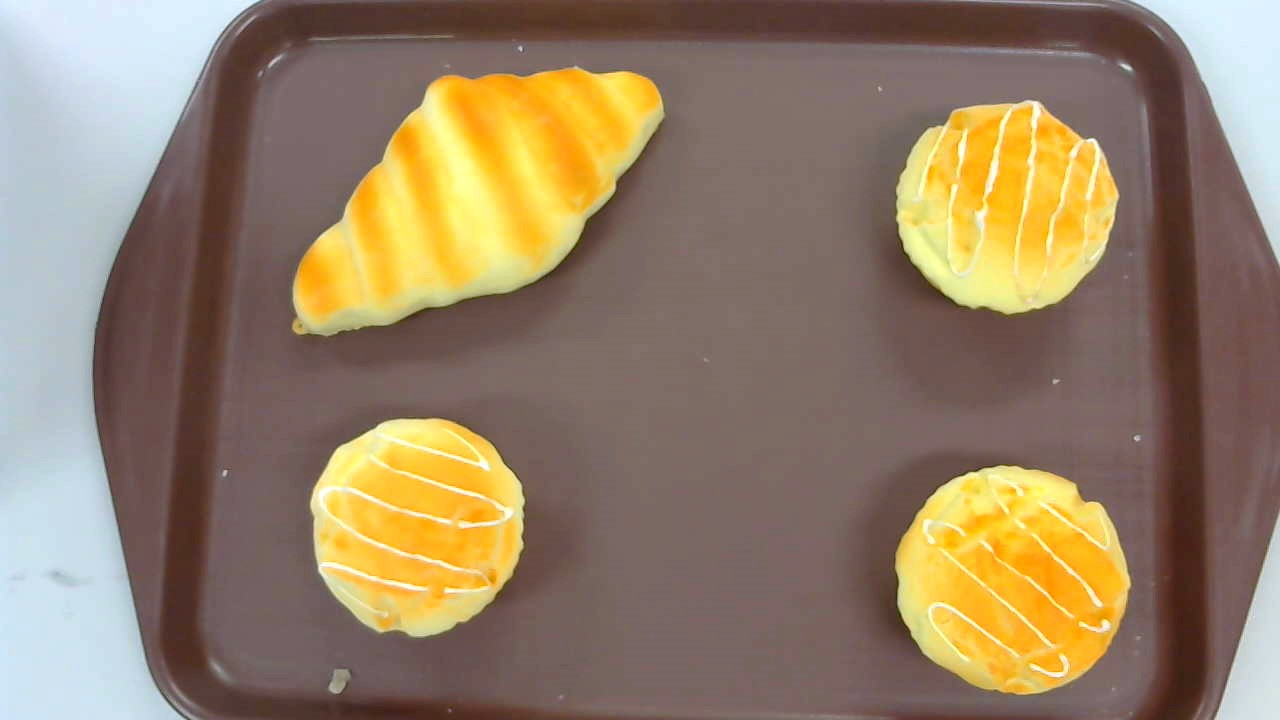croissant: (291, 65, 666, 335)
cupcake: (894, 465, 1130, 696), (896, 97, 1120, 316), (310, 418, 528, 637)
